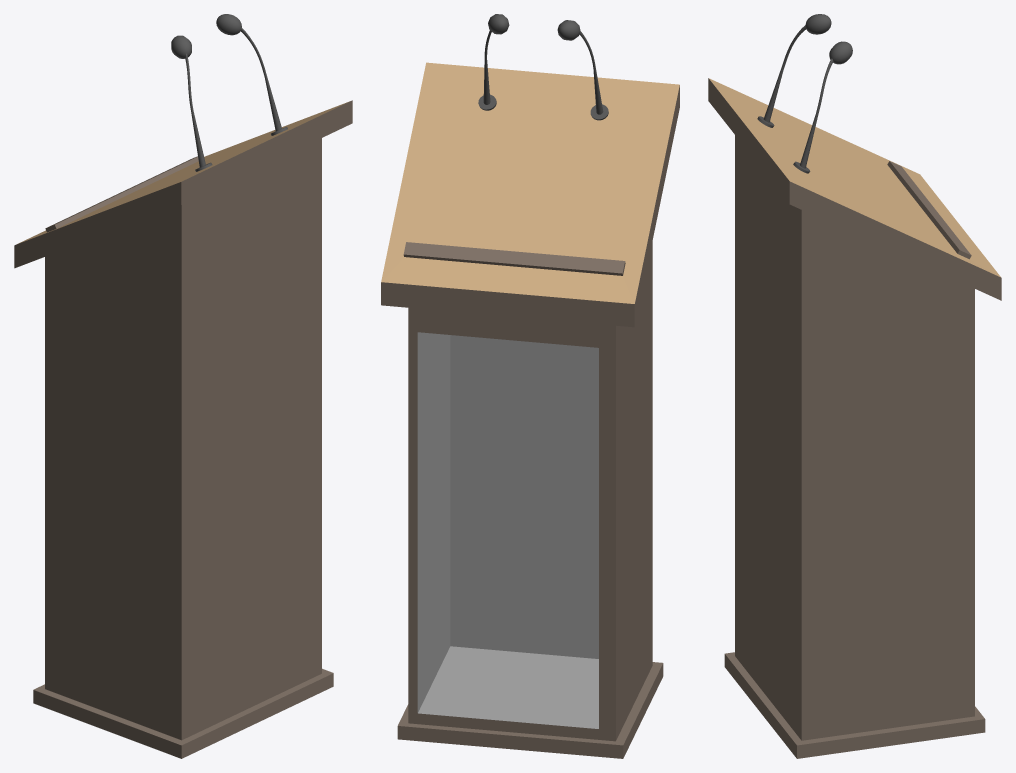
Rendered from micro_table.fbx.
3 renders of one model, left to right at view 1: azimuth 30°, elevation 25°; view 2: azimuth 150°, elevation 25°; view 3: azimuth 270°, elevation 25°, orthographic.
Visible parts, largest first — view 1: tableMicro; view 2: tableMicro; view 3: tableMicro.
Boxes of the visible parts, x1=… form: tableMicro: x1=14, y1=14, x2=352, y2=758; tableMicro: x1=381, y1=14, x2=679, y2=758; tableMicro: x1=708, y1=14, x2=1001, y2=758.
Size of the model in its own units: 199 by 471 by 185.
